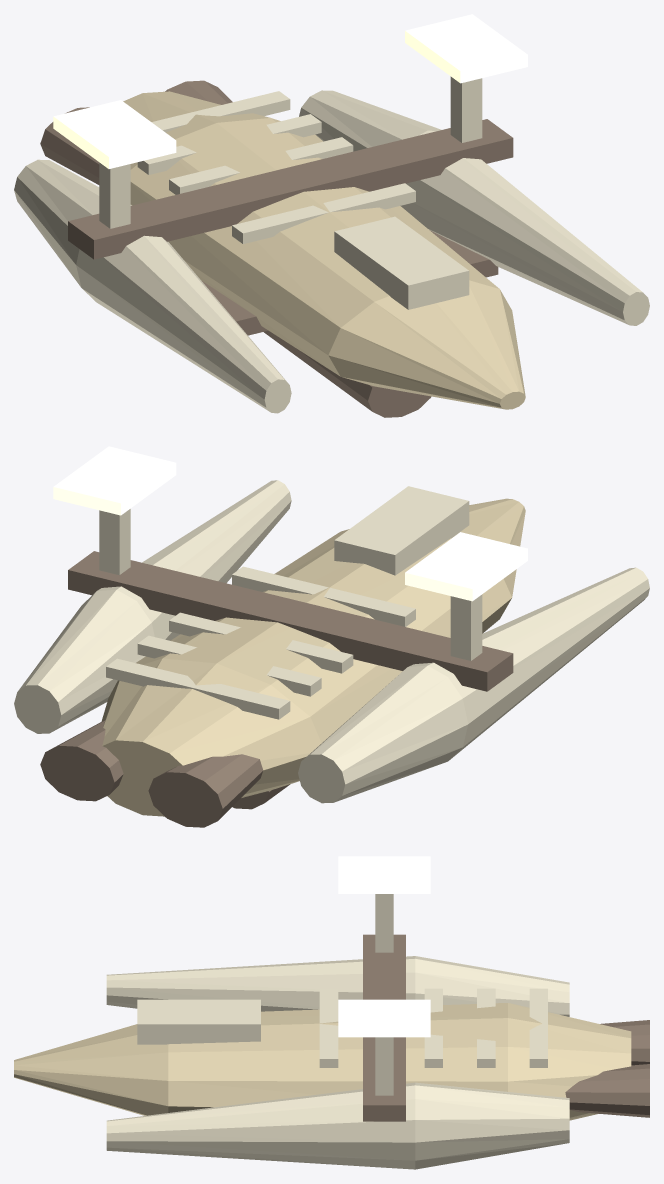
The picture shows the model from 3 angles, top to bottom: view 1: azimuth 30°, elevation 25°; view 2: azimuth 150°, elevation 25°; view 3: azimuth 270°, elevation 25°; orthographic projection. The views are drawn at different scales.
Size of the model in its own units: 2.88 by 1.64 by 4.53.
